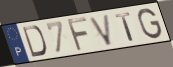7: (44, 20, 65, 55)
D: (21, 24, 48, 58)
F: (65, 17, 91, 53)
G: (137, 7, 164, 40)
T: (113, 11, 136, 43)
V: (88, 12, 114, 47)
